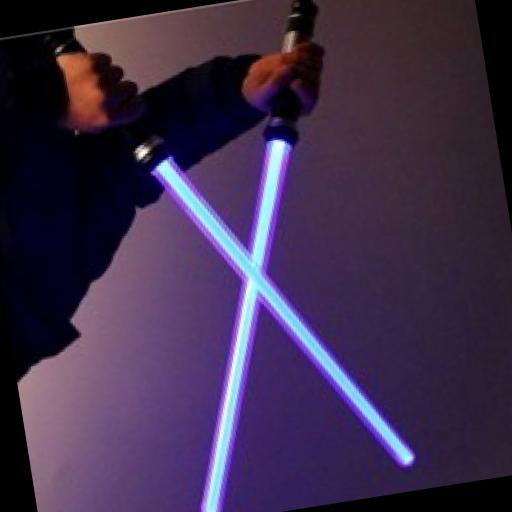lightsaber: (53, 0, 414, 509), (123, 0, 396, 512)
